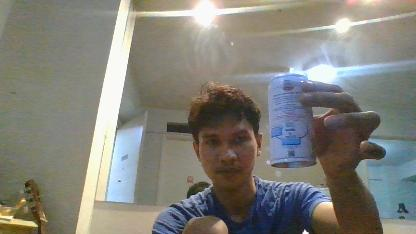Can: (266, 72, 316, 170)
